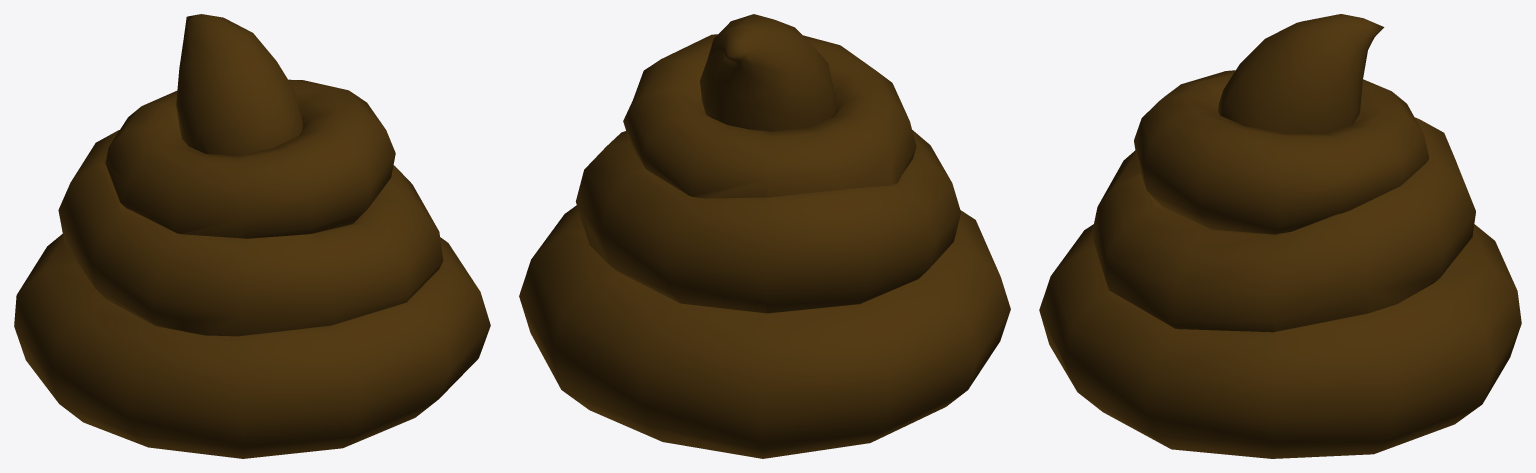
File: Caca_03.fbx
3 views of the same model, side by side, from view 1: azimuth 30°, elevation 25°; view 2: azimuth 150°, elevation 25°; view 3: azimuth 270°, elevation 25° (orthographic). The views are drawn at different scales.
Parts seen in each view (by area): view 1: Caca_03; view 2: Caca_03; view 3: Caca_03.
Part boxes in pixels (left/top/right/bottom): Caca_03: left=14, top=14, right=490, bottom=458; Caca_03: left=519, top=14, right=1010, bottom=458; Caca_03: left=1039, top=14, right=1521, bottom=458.
Bounding box in the file's own units: 50 × 43.08 × 50.03.
